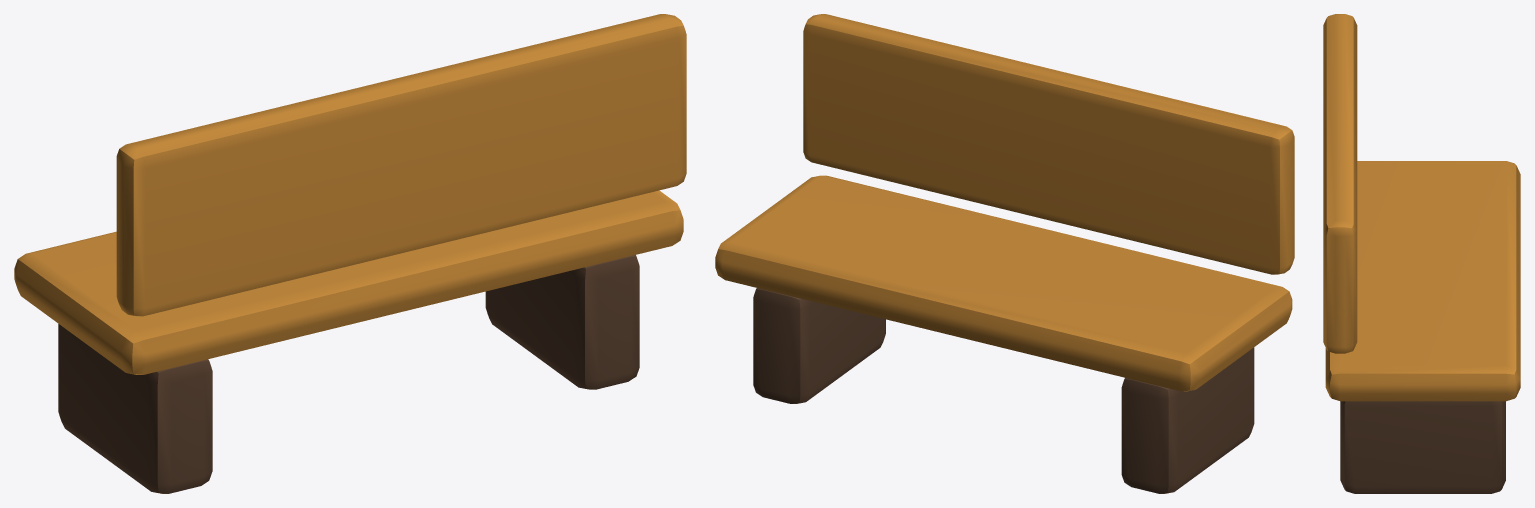
The model's file is prop_bench.glb.
The picture shows the model from 3 angles, left to right: view 1: azimuth 30°, elevation 25°; view 2: azimuth 150°, elevation 25°; view 3: azimuth 270°, elevation 25°; orthographic projection. The views are drawn at different scales.
Visible parts, largest first — view 1: bench_back, bench_seat, bench_leg1, bench_leg2; view 2: bench_back, bench_seat, bench_leg1, bench_leg2; view 3: bench_seat, bench_leg2, bench_back.
Boxes of the visible parts, box(x1,y1,x2,y2) form: bench_back: box(116, 14, 686, 316); bench_seat: box(14, 190, 683, 374); bench_leg1: box(58, 324, 212, 493); bench_leg2: box(485, 255, 639, 389); bench_back: box(803, 14, 1294, 274); bench_seat: box(715, 175, 1292, 391); bench_leg1: box(1121, 347, 1254, 493); bench_leg2: box(753, 288, 885, 403); bench_seat: box(1325, 161, 1520, 401); bench_leg2: box(1340, 401, 1505, 493); bench_back: box(1323, 14, 1357, 353).
Size of the model in its own units: 1.05 by 0.65 by 0.405.
